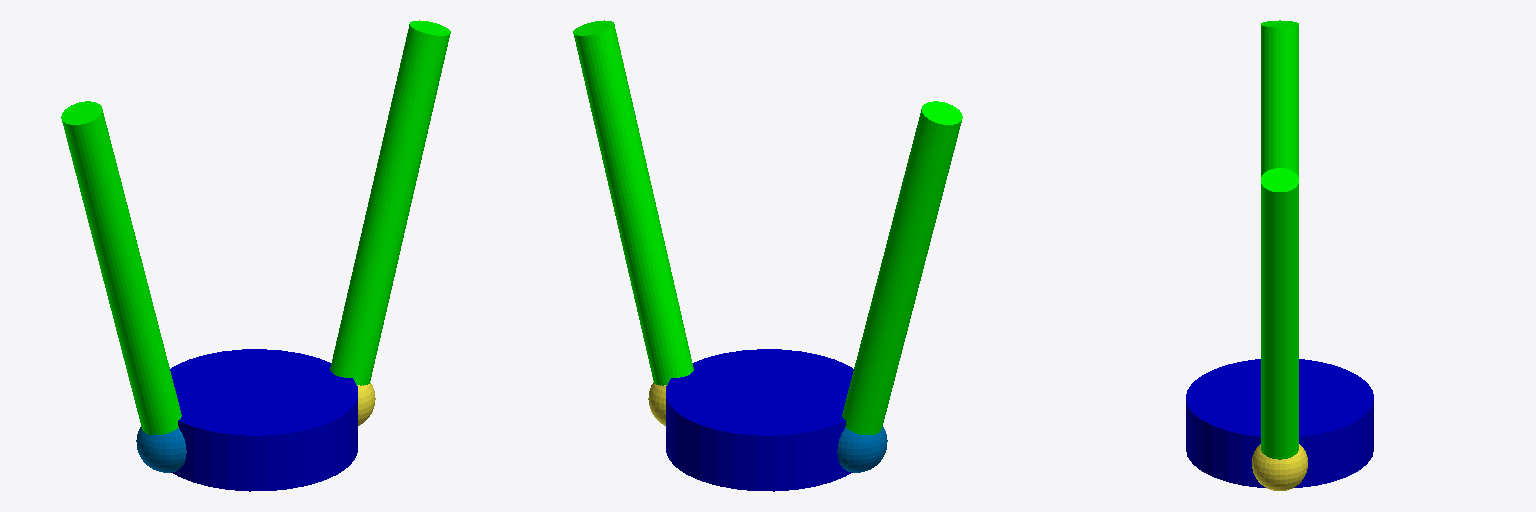
robot.urdf — gripper_2f_1j:
<?xml version='1.0' encoding='UTF-8'?>
<robot name="gripper_2f_1j">
  <link name="palm">
    <inertial>
      <origin xyz="0.0 0.0 0.0" rpy="0.0 -0.0 0.0"/>
      <mass value="1.0"/>
      <inertia ixx="1.0" ixy="0.0" ixz="0.0" iyy="1.0" iyz="0.0" izz="1.0"/>
    </inertial>
    <visual>
      <geometry>
        <cylinder radius="0.05" length="0.03"/>
      </geometry>
      <material name="blue"/>
      <origin xyz="0.0 0.0 0.0" rpy="0.0 -0.0 0.0"/>
    </visual>
    <collision>
      <geometry>
        <cylinder radius="0.05" length="0.03"/>
      </geometry>
      <origin xyz="0.0 0.0 0.0" rpy="0.0 0.0 0.0"/>
    </collision>
  </link>
  <link name="f11">
    <inertial>
      <origin xyz="0.0 0.0 0.0" rpy="0.0 -0.0 0.0"/>
      <mass value="1.0"/>
      <inertia ixx="1.0" ixy="0.0" ixz="0.0" iyy="1.0" iyz="0.0" izz="1.0"/>
    </inertial>
    <visual>
      <geometry>
        <cylinder radius="0.01025435024787099" length="0.19402280801522556"/>
      </geometry>
      <material name="green"/>
      <origin xyz="0.0 0.0 0.09701140400761278" rpy="0.0 -0.0 0.0"/>
    </visual>
    <collision>
      <geometry>
        <cylinder radius="0.01025435024787099" length="0.19402280801522556"/>
      </geometry>
      <origin xyz="0.0 0.0 0.05" rpy="0.0 0.0 0.0"/>
    </collision>
  </link>
  <link name="f21">
    <inertial>
      <origin xyz="0.0 0.0 0.0" rpy="0.0 -0.0 0.0"/>
      <mass value="1.0"/>
      <inertia ixx="1.0" ixy="0.0" ixz="0.0" iyy="1.0" iyz="0.0" izz="1.0"/>
    </inertial>
    <visual>
      <geometry>
        <cylinder radius="0.01025435024787099" length="0.19402280801522556"/>
      </geometry>
      <material name="green"/>
      <origin xyz="0.0 0.0 0.09701140400761278" rpy="0.0 -0.0 0.0"/>
    </visual>
    <collision>
      <geometry>
        <cylinder radius="0.01025435024787099" length="0.19402280801522556"/>
      </geometry>
      <origin xyz="0.0 0.0 0.05" rpy="0.0 0.0 0.0"/>
    </collision>
  </link>
  <link name="f11_base">
    <inertial>
      <origin xyz="0.0 0.0 0.0" rpy="0.0 -0.0 0.0"/>
      <mass value="1.0"/>
      <inertia ixx="1.0" ixy="0.0" ixz="0.0" iyy="1.0" iyz="0.0" izz="1.0"/>
    </inertial>
    <visual>
      <geometry>
        <sphere radius="0.015"/>
      </geometry>
      <origin xyz="0.0 0.0 0.0" rpy="0.0 -0.0 0.0"/>
    </visual>
  </link>
  <link name="f21_base">
    <inertial>
      <origin xyz="0.0 0.0 0.0" rpy="0.0 -0.0 0.0"/>
      <mass value="1.0"/>
      <inertia ixx="1.0" ixy="0.0" ixz="0.0" iyy="1.0" iyz="0.0" izz="1.0"/>
    </inertial>
    <visual>
      <geometry>
        <sphere radius="0.015"/>
      </geometry>
      <origin xyz="0.0 0.0 0.0" rpy="0.0 -0.0 0.0"/>
    </visual>
  </link>
  <joint name="f11_joint" type="revolute">
    <dynamics damping="100.0" friction="1.0"/>
    <limit effort="30.0" velocity="2.0" lower="-0.6" upper="0.25"/>
    <parent link="f11_base"/>
    <child link="f11"/>
    <axis xyz="0. 1. 0."/>
    <origin xyz="0.0 0.0 0.0" rpy="0.0 0.25 0.0"/>
  </joint>
  <joint name="f21_joint" type="revolute">
    <dynamics damping="100.0" friction="1.0"/>
    <limit effort="30.0" velocity="2.0" lower="-0.6" upper="0.25"/>
    <parent link="f21_base"/>
    <child link="f21"/>
    <axis xyz=" 0. -1.  0."/>
    <origin xyz="0.0 0.0 0.0" rpy="0.0 -0.25 0.0"/>
  </joint>
  <joint name="f11_base_joint" type="fixed">
    <parent link="palm"/>
    <child link="f11_base"/>
    <axis xyz="1. 0. 0."/>
    <origin xyz="0.05 0.0 0.0" rpy="0.0 0.0 0.0"/>
  </joint>
  <joint name="f21_base_joint" type="fixed">
    <parent link="palm"/>
    <child link="f21_base"/>
    <axis xyz="1. 0. 0."/>
    <origin xyz="-0.05 -0.0 0.0" rpy="0.0 0.0 0.0"/>
  </joint>
  <material name="blue">
    <color rgba="0.  0.  0.8 1. "/>
  </material>
  <material name="green">
    <color rgba="0. 1. 0. 1."/>
  </material>
</robot>

--- Render facts (derived) ---
The picture shows the robot from 3 angles, left to right: view 1: azimuth 30°, elevation 25°; view 2: azimuth 150°, elevation 25°; view 3: azimuth 270°, elevation 25°; orthographic projection.
Model gripper_2f_1j with 5 links and 4 joints (2 revolute, 2 fixed), rooted at palm, posed every joint at zero.
Visible links, largest first — view 1: palm, f11, f21, f21_base, f11_base; view 2: palm, f11, f21, f21_base, f11_base; view 3: palm, f11, f21, f11_base.
Boxes of the visible links, <box> form: palm: <box>170,349,357,491</box>; f11: <box>330,20,450,385</box>; f21: <box>61,101,181,434</box>; f21_base: <box>136,427,186,472</box>; f11_base: <box>357,382,375,425</box>; palm: <box>666,349,853,491</box>; f11: <box>573,20,693,385</box>; f21: <box>842,101,962,434</box>; f21_base: <box>837,427,887,472</box>; f11_base: <box>648,382,666,425</box>; palm: <box>1186,359,1373,487</box>; f11: <box>1261,168,1298,459</box>; f21: <box>1261,20,1298,176</box>; f11_base: <box>1252,444,1307,490</box>.
Bounding box of the posed robot: 0.2159 × 0.1 × 0.2055 m (x, y, z).
Geometry: primitives only (box / cylinder / sphere), no mesh files.